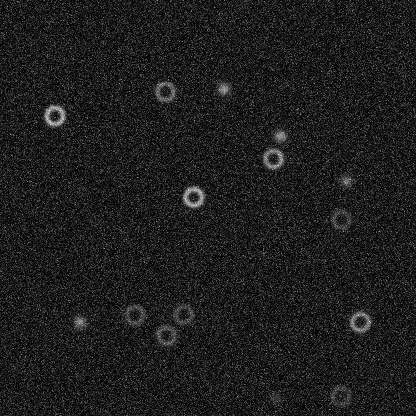Ring: (153, 79, 177, 103), (328, 384, 352, 408), (154, 323, 178, 347), (42, 103, 66, 127), (329, 207, 353, 231), (122, 302, 146, 326), (181, 184, 205, 208), (347, 309, 371, 333), (171, 302, 195, 326), (261, 146, 285, 170)
Spot: (215, 80, 231, 96), (272, 128, 288, 144), (268, 390, 284, 406), (338, 172, 354, 188), (71, 313, 87, 329)
